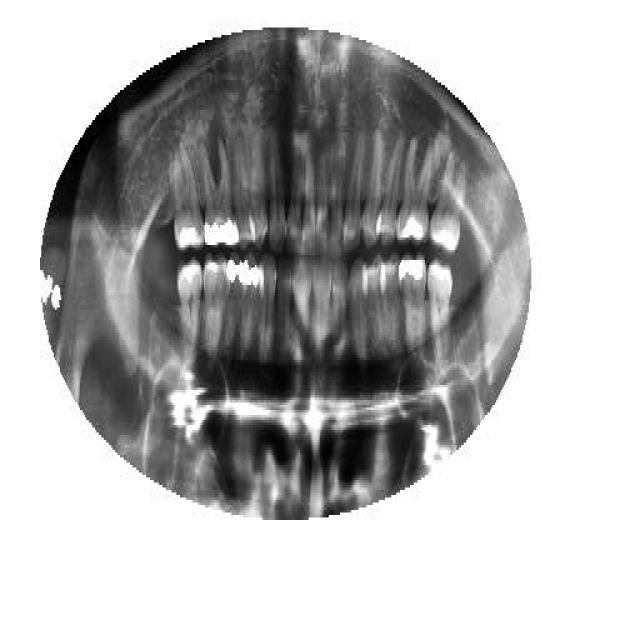Fillings: (201, 140, 239, 248), (395, 140, 434, 242), (398, 252, 428, 352), (224, 252, 245, 350), (240, 252, 259, 360)
